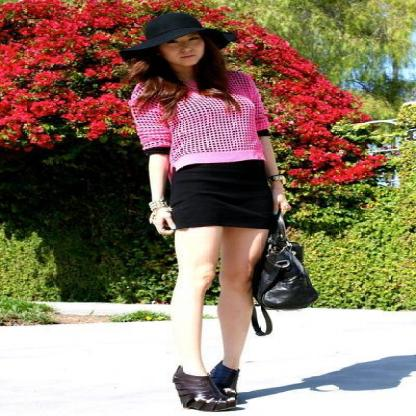bag: (248, 241, 332, 336)
hat: (112, 8, 236, 64)
jacket: (128, 75, 277, 171)
shoe: (173, 361, 239, 411)
skirt: (162, 158, 292, 241)
